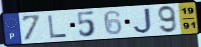5: (76, 10, 99, 39)
6: (103, 9, 124, 36)
7: (21, 14, 42, 42)
9: (157, 5, 179, 34)
J: (132, 7, 154, 35)
L: (46, 14, 69, 39)
